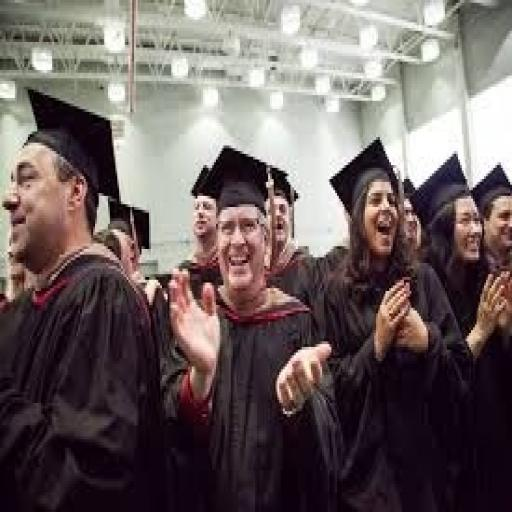clapping: (2, 87, 510, 506), (166, 143, 337, 509)
